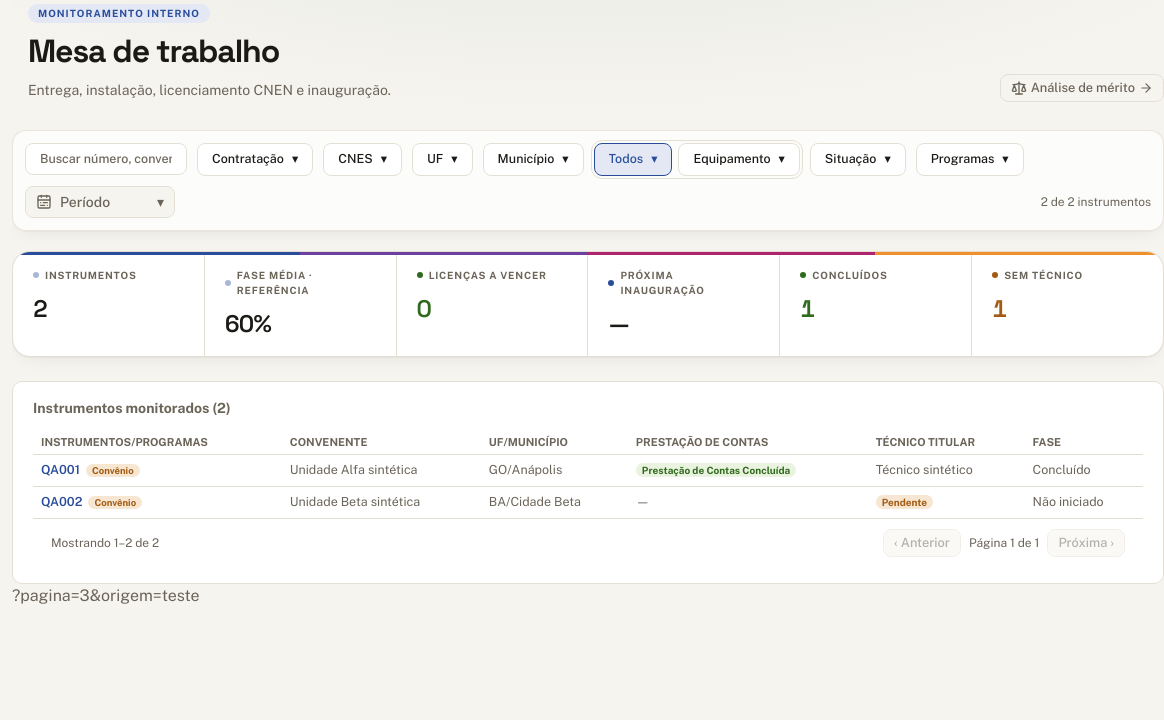
Scenario: Mesa de trabalho com fontes HTTP e componentes reais › seleciona equipamento não prioritário de instrumento misto e limpa o recorte sem perder navegação
What coordinates should you click on to do the following:
click the button "Equipamento ▾"
I would click on:
 (739, 159)
Its box is [678, 143, 800, 176].
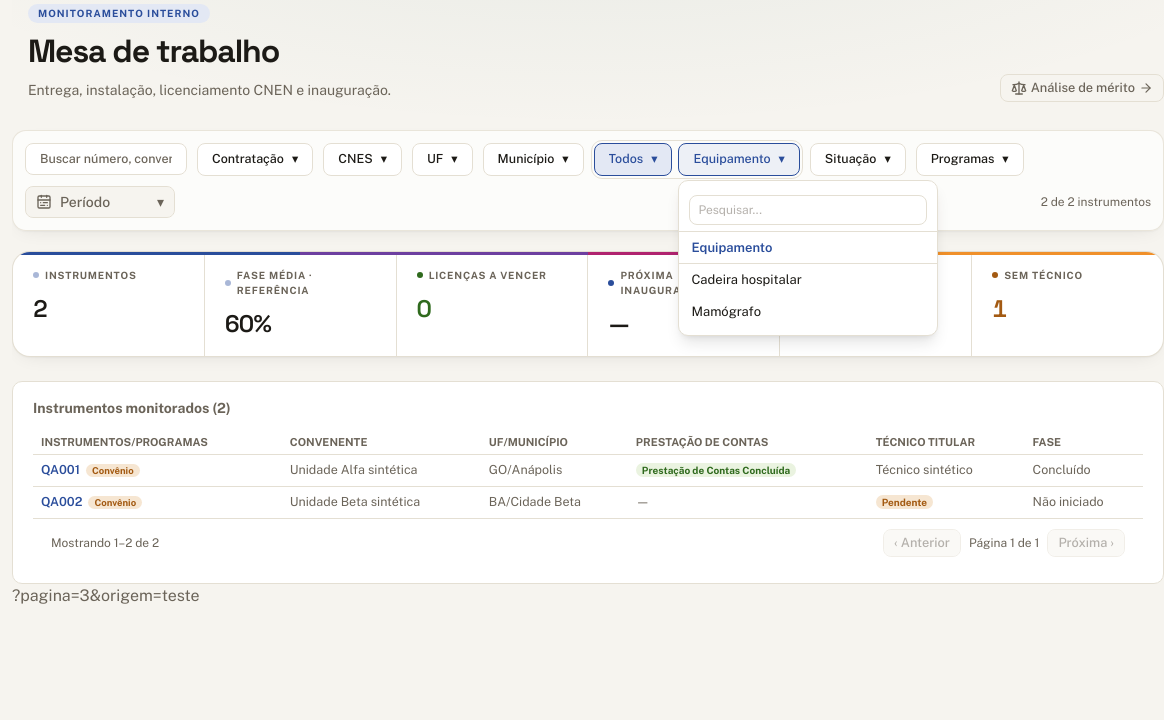
What coordinates should you click on to do the following:
click the option "Cadeira hospitalar"
I would click on:
 (808, 280)
Its box is [680, 264, 938, 296].
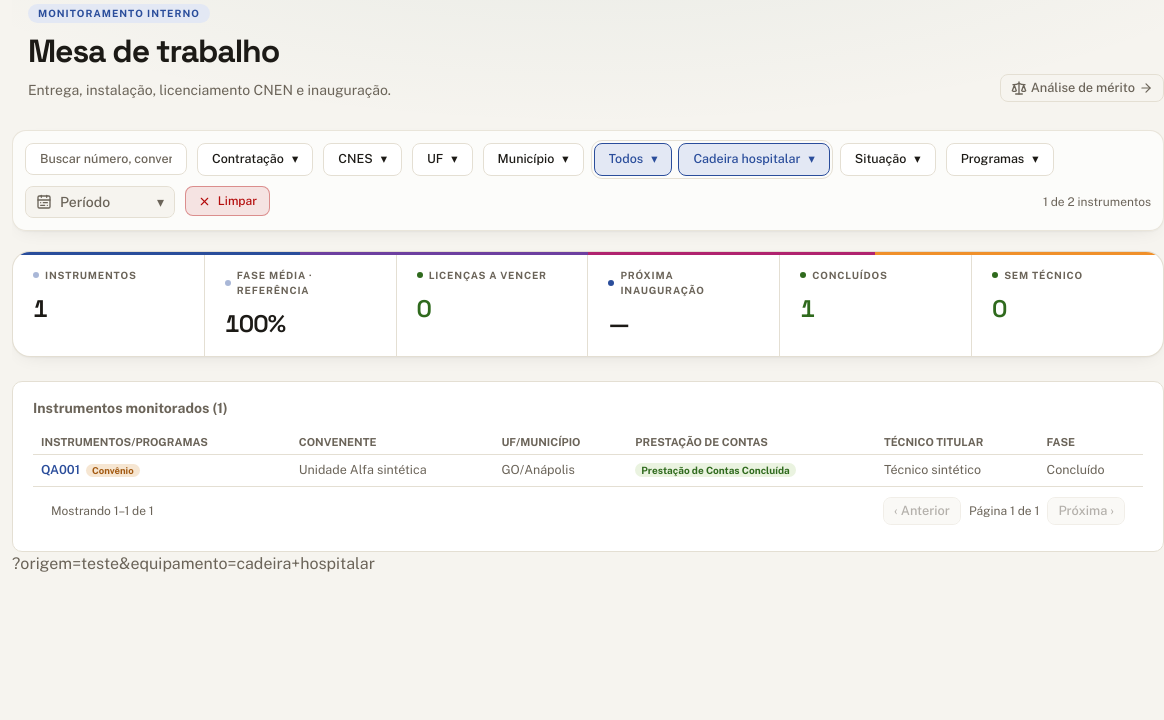
Now the link "QA002" is gone
Now the text "1 de 2 instrumentos" is shown, box [1043, 194, 1151, 208]
Now the text named "URL atual" no longer shows "pagina=", box [12, 554, 375, 573]
What coordinates should you click on to do the following:
click the button with aria-label "Limpar filtros"
I would click on:
 (227, 200)
Its box is [185, 186, 270, 216].
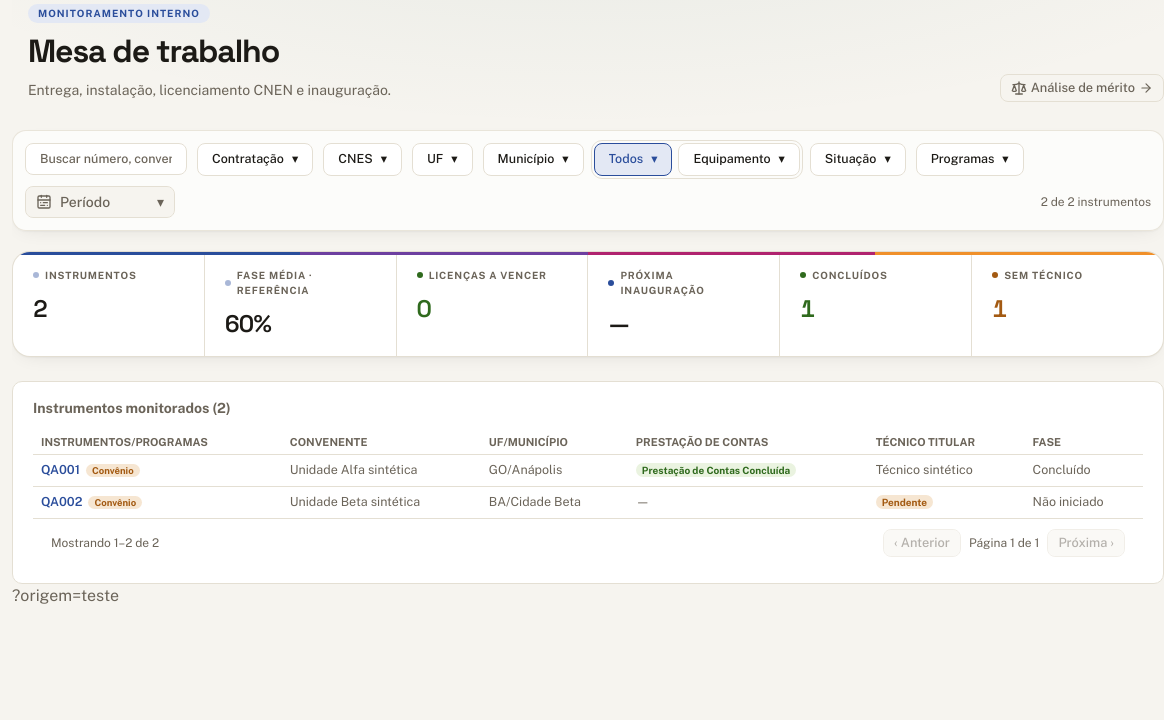
Now the text named "URL atual" reads "?origem=teste", box [12, 586, 119, 604]
Now the text "2 de 2 instrumentos" is shown, box [1041, 194, 1151, 208]
